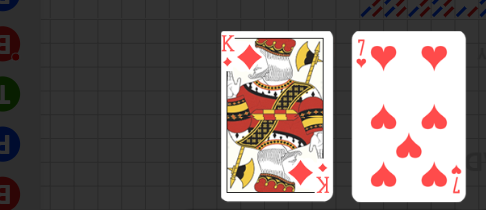7H: (449, 163, 462, 195)
KD: (221, 34, 234, 68)
